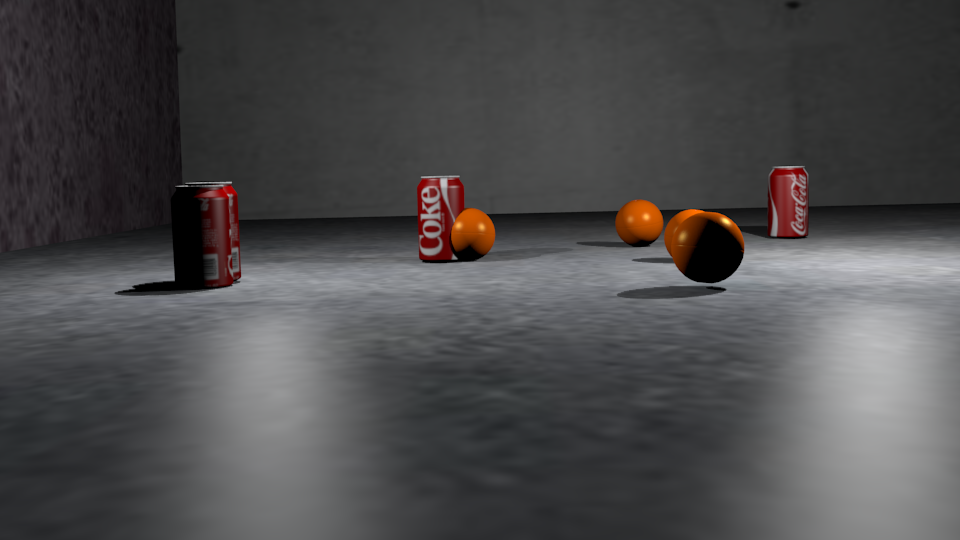cola_can: (176, 185, 234, 286), (186, 182, 242, 280), (418, 176, 466, 260), (770, 167, 809, 237)
orange: (672, 212, 745, 269), (665, 210, 722, 256), (442, 208, 496, 253), (616, 200, 664, 239)
